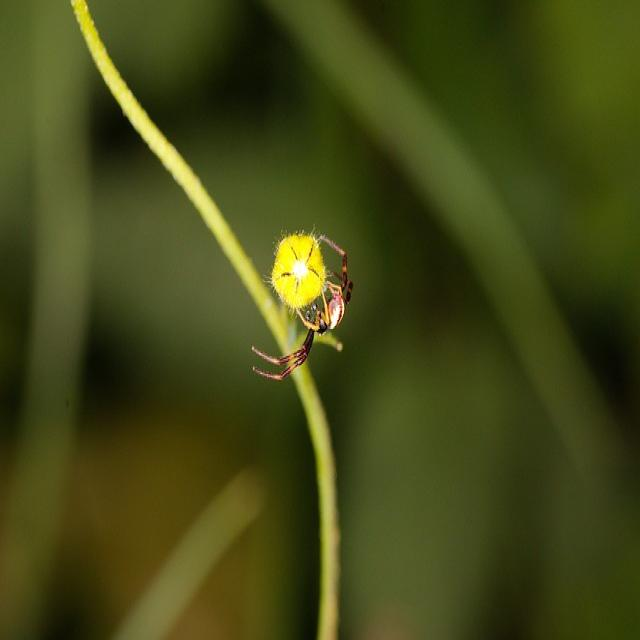spyder: (252, 238, 352, 379)
